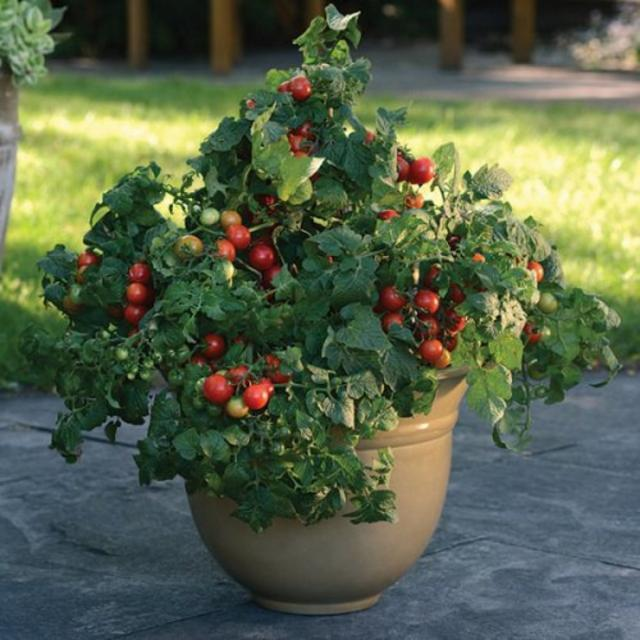plant: (38, 5, 621, 531)
